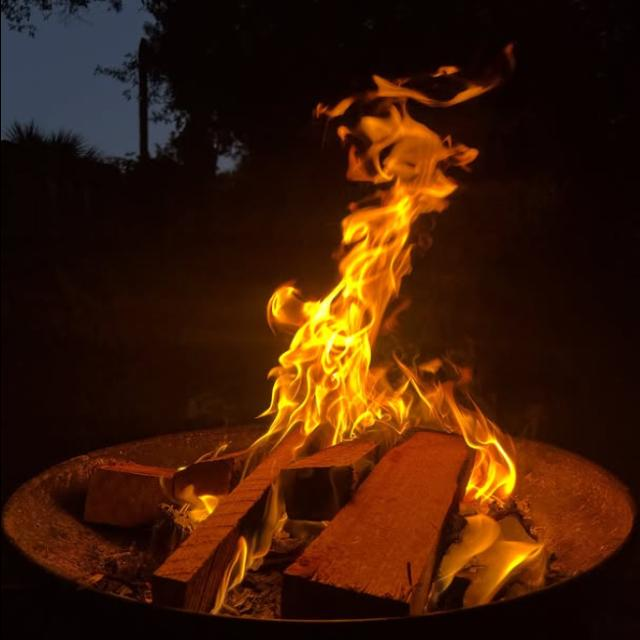fire: (316, 41, 512, 237), (256, 237, 432, 447), (433, 356, 516, 504), (426, 514, 547, 608), (209, 483, 288, 616), (160, 443, 228, 530)
